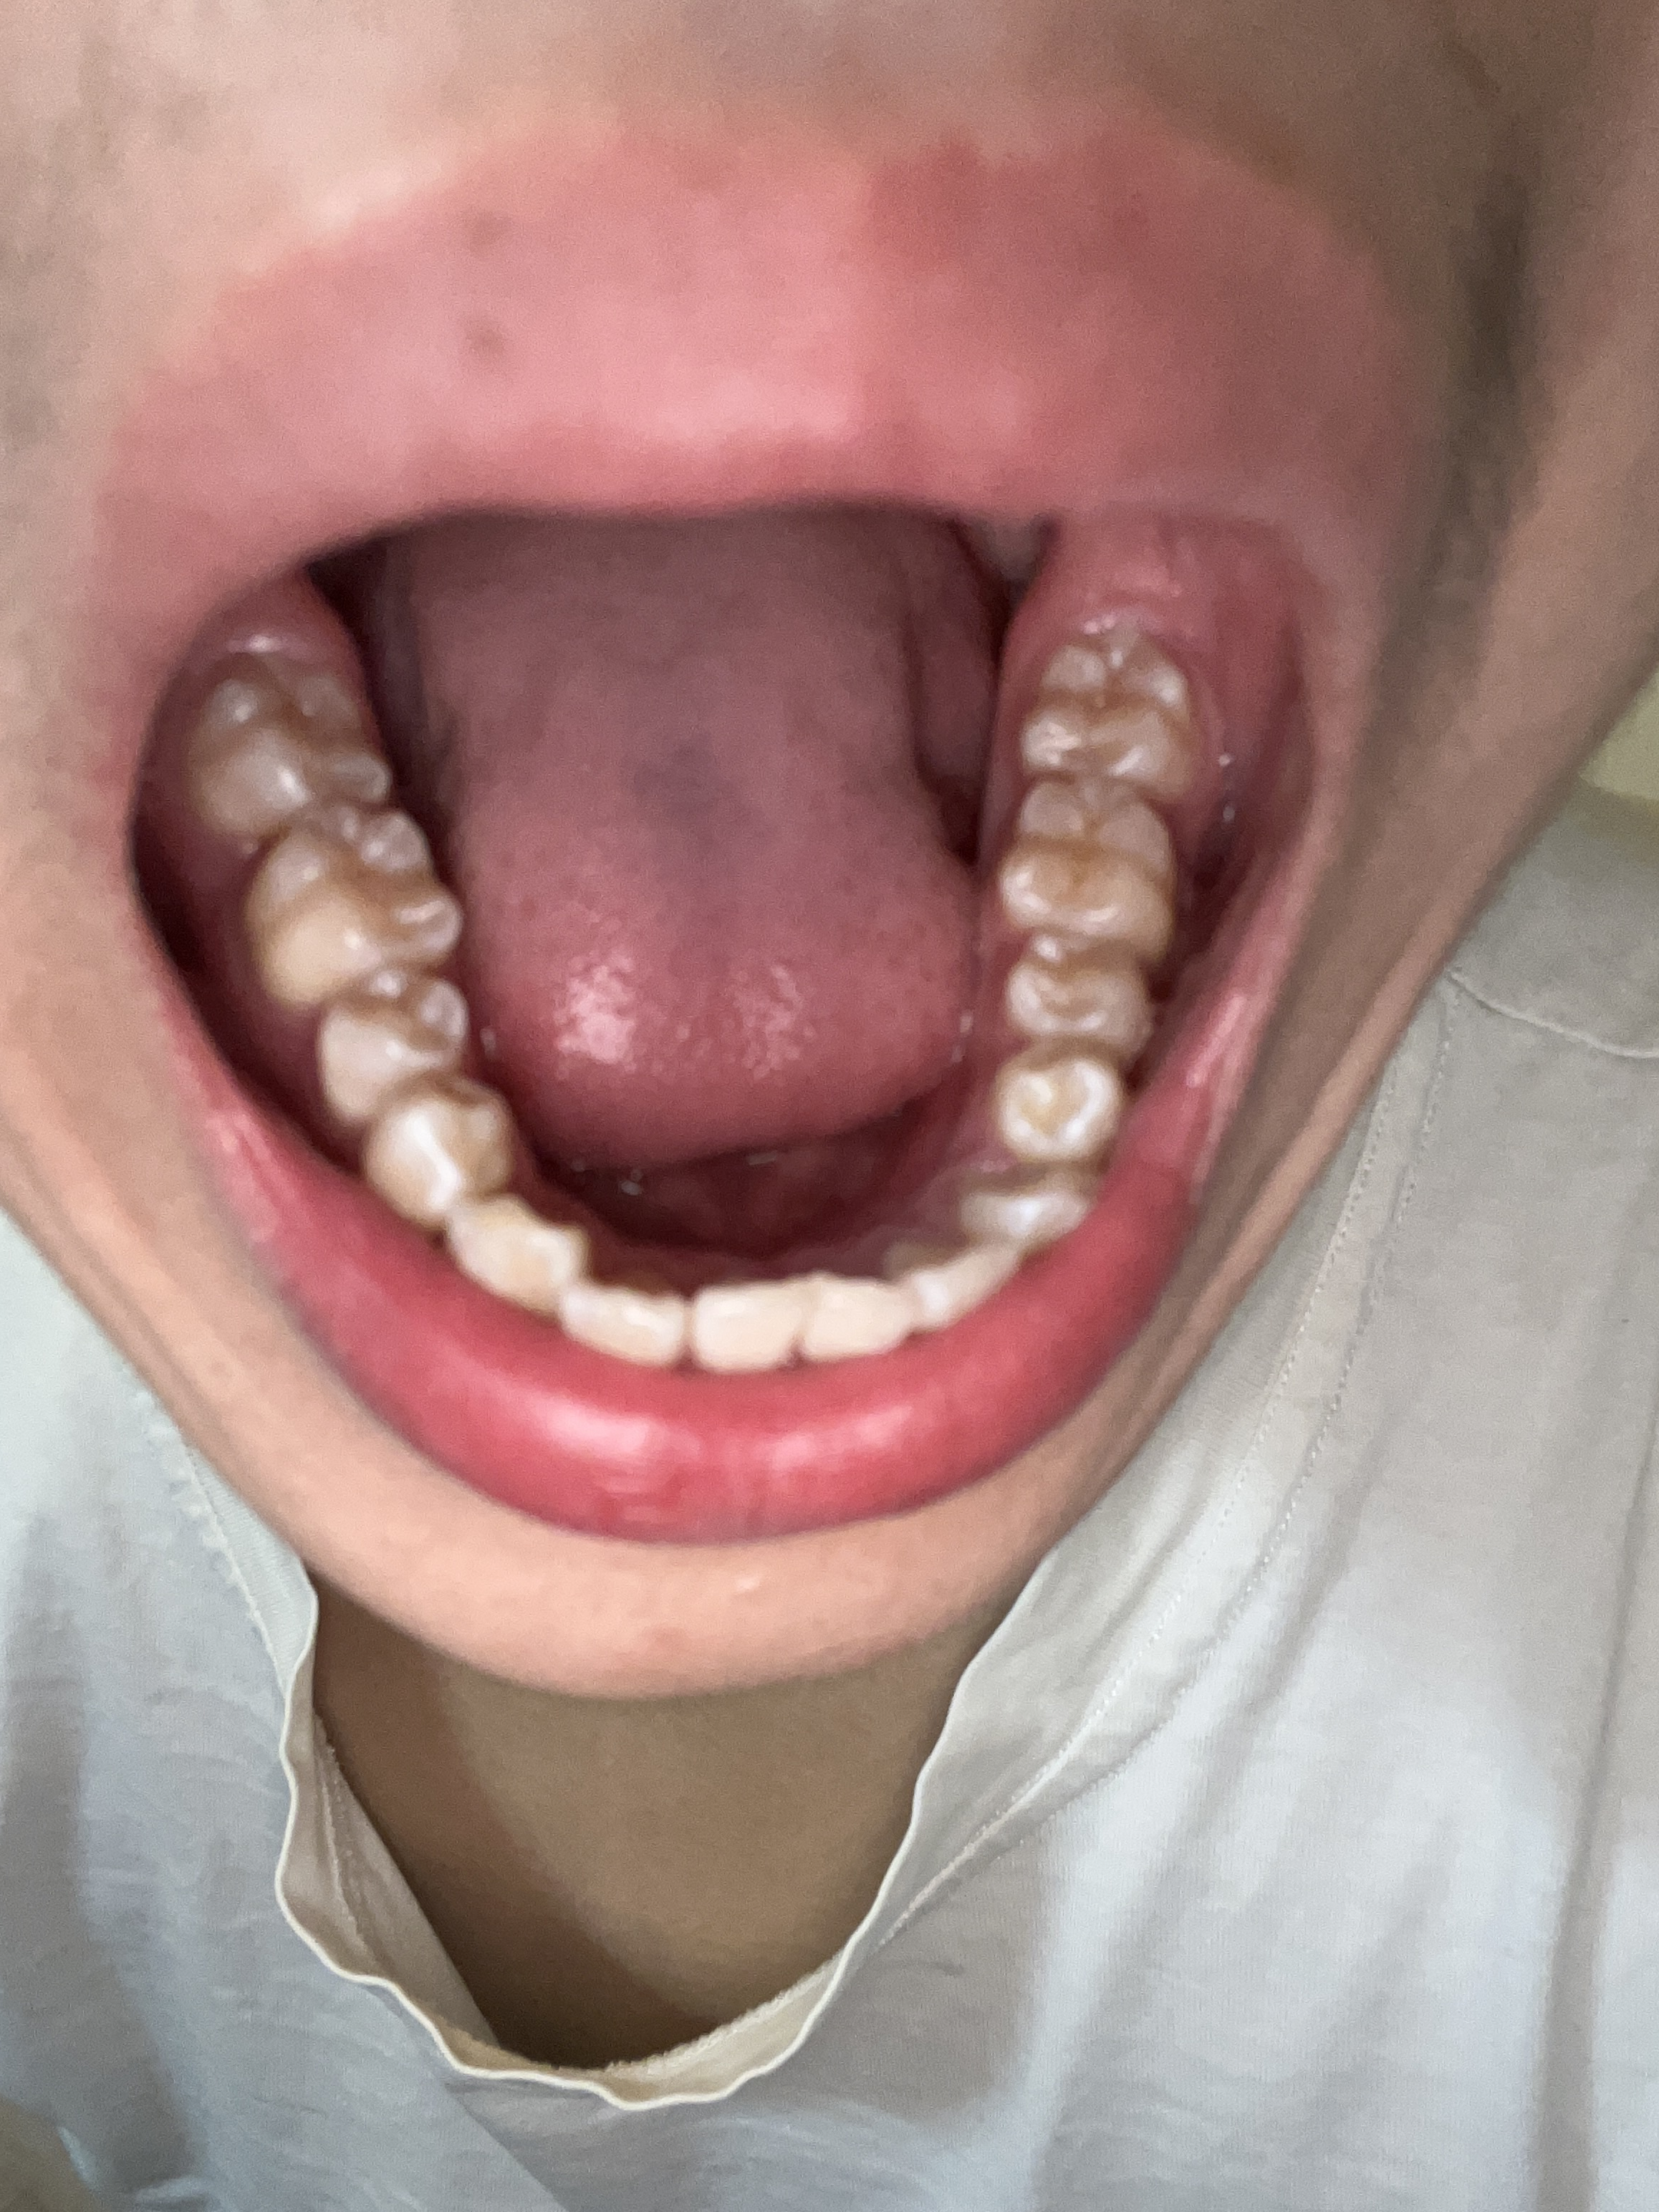teeth: (237, 806, 467, 996), (186, 648, 403, 833), (1004, 775, 1178, 958), (1018, 622, 1180, 798), (321, 970, 464, 1118), (373, 1078, 518, 1217), (1014, 930, 1150, 1040), (990, 1043, 1122, 1146), (450, 1209, 580, 1301), (558, 1263, 681, 1353), (892, 1244, 1014, 1322), (962, 1162, 1086, 1226), (701, 1285, 798, 1366), (814, 1289, 904, 1350)
